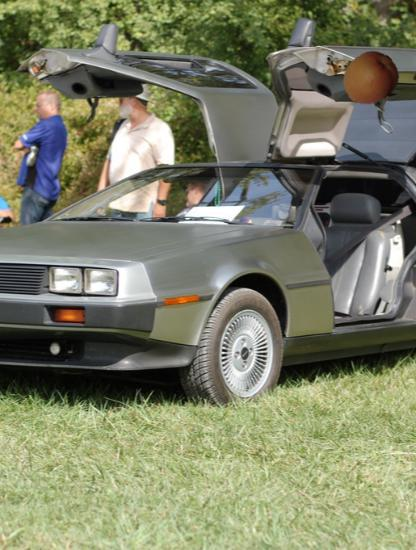Apricot: (342, 50, 399, 107)
